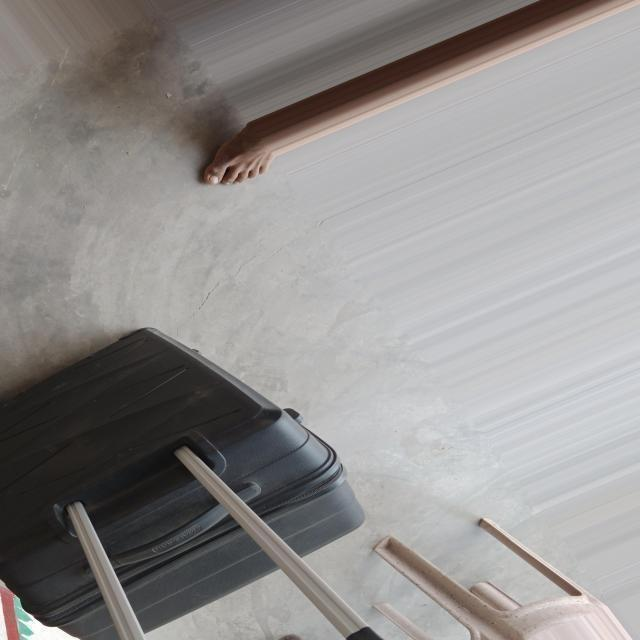Suitcase: (0, 317, 383, 635)
